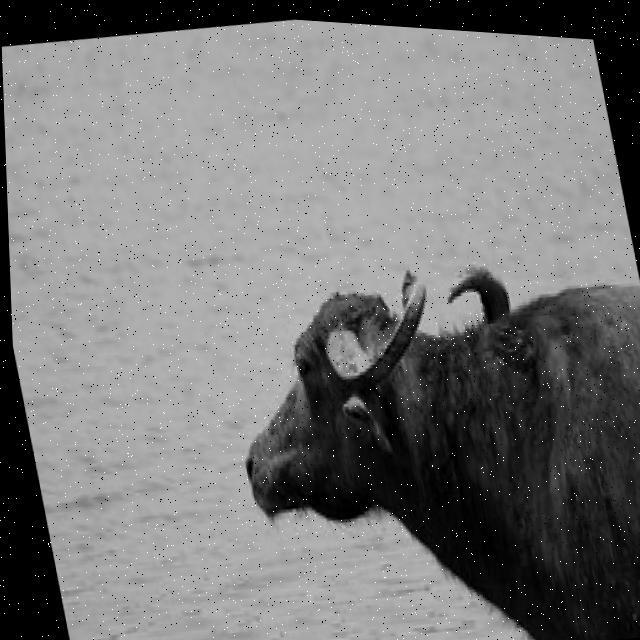Buffalo: (207, 229, 640, 640)
